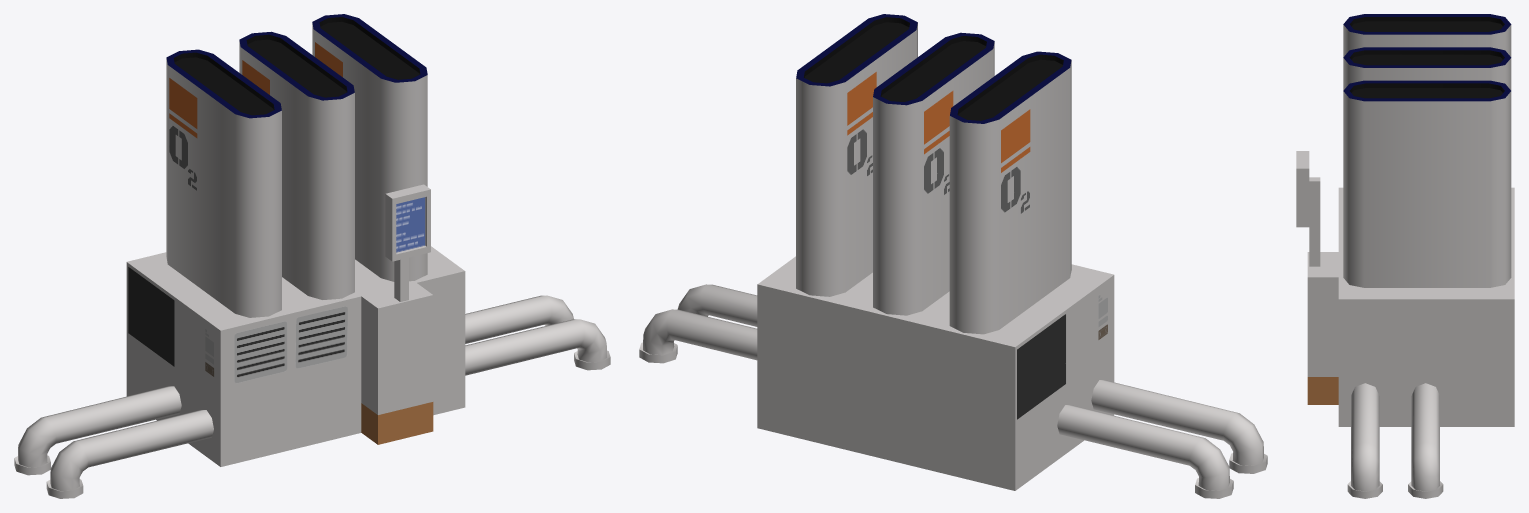
File: o2cooler.fbx
The picture shows the model from 3 angles, left to right: view 1: azimuth 30°, elevation 25°; view 2: azimuth 150°, elevation 25°; view 3: azimuth 270°, elevation 25°; orthographic projection. The views are drawn at different scales.
Visible parts, largest first — view 1: o2cooler; view 2: o2cooler; view 3: o2cooler.
Part boxes in pixels (box(x1,y1,x2,y2)): o2cooler: box(14, 14, 610, 498); o2cooler: box(639, 14, 1267, 498); o2cooler: box(1296, 14, 1514, 498).
Size of the model in its own units: 8.72 by 5 by 3.15.
